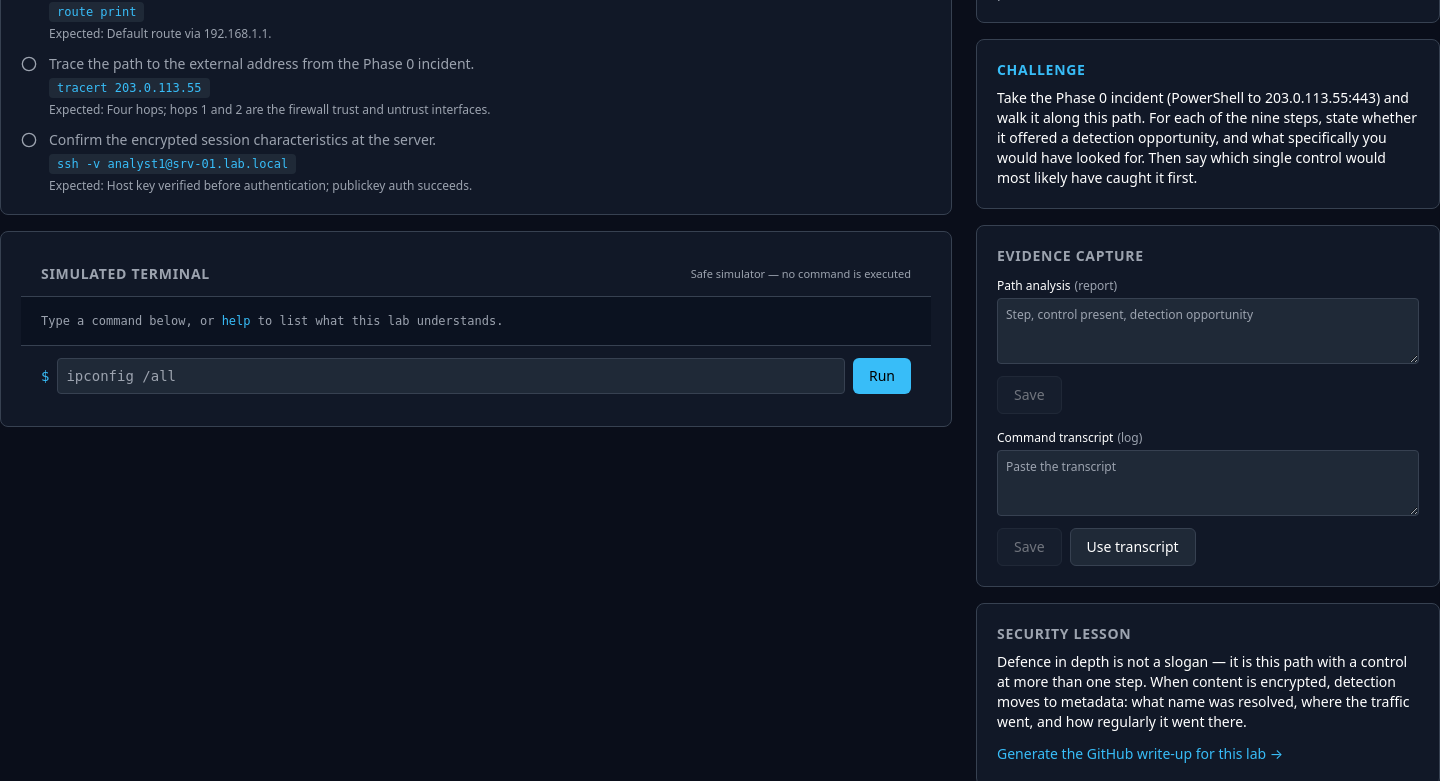
Test: Phase 1 labs run end to end › runs the connection trace lab and shows all nine path steps
The width and height of the screenshot is (1440, 781).
(page scrolled)
Type "trace connection ws-01 srv-01" into the field named "Simulated command input".
click(451, 376); type("trace connection ws-01 srv-01")  # box [57,358,845,394]
Then press Enter
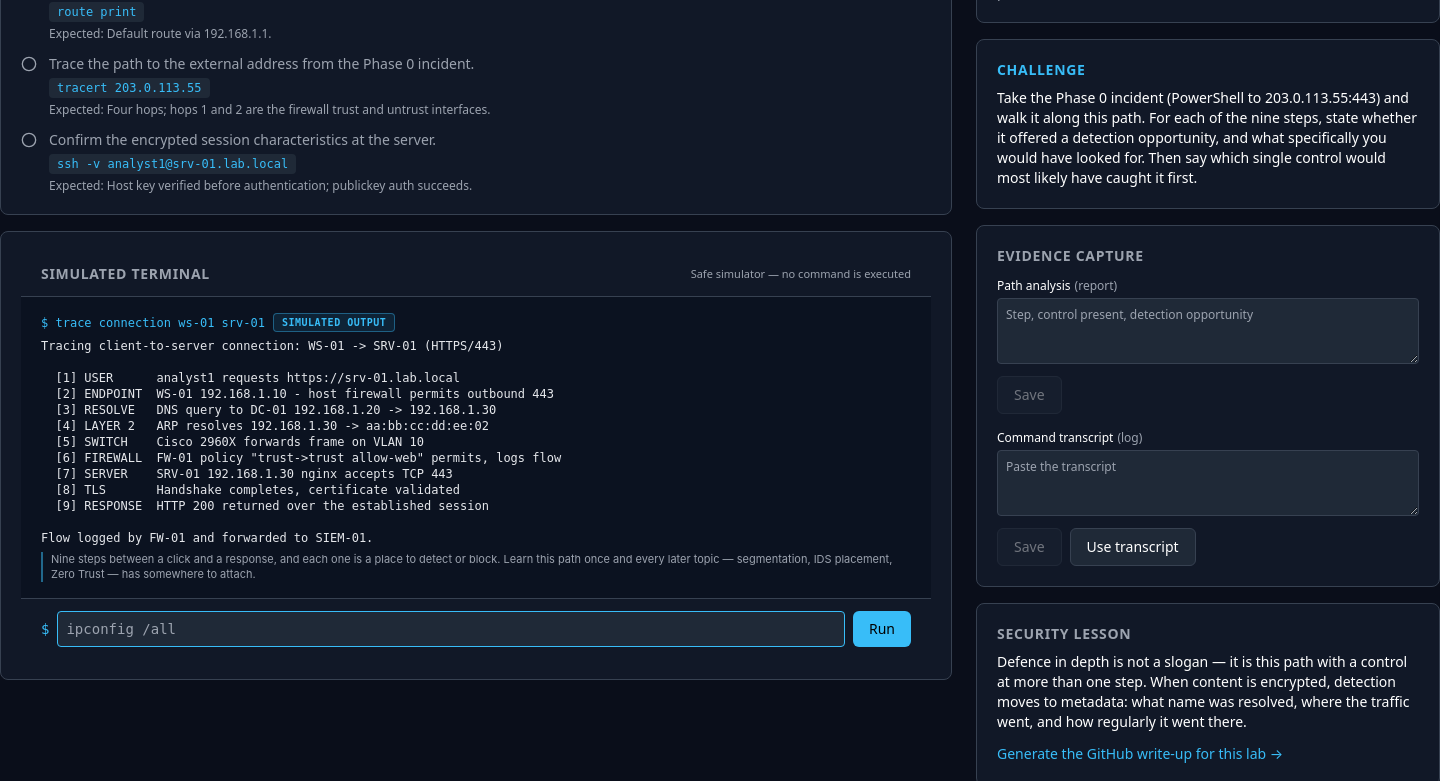
Now the text "[9] RESPONSE" is shown, box [41,339,561,545]
Now the text "Simulated output" is shown, box [273,313,395,332]
